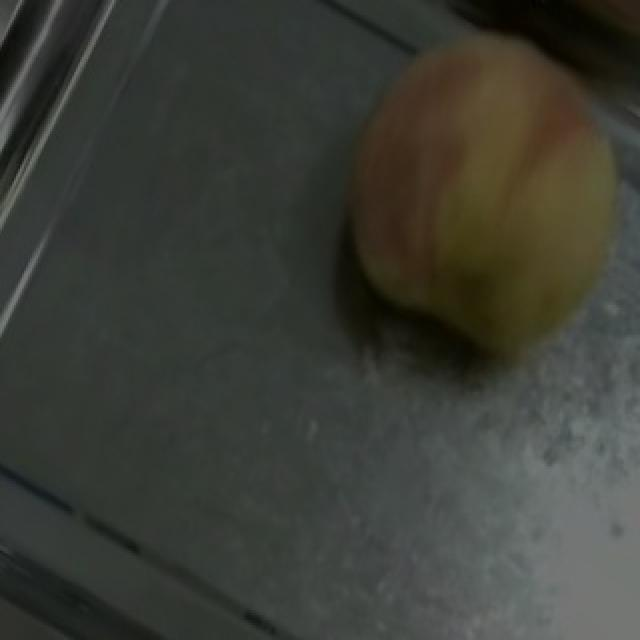Fruit: (294, 0, 626, 370)
